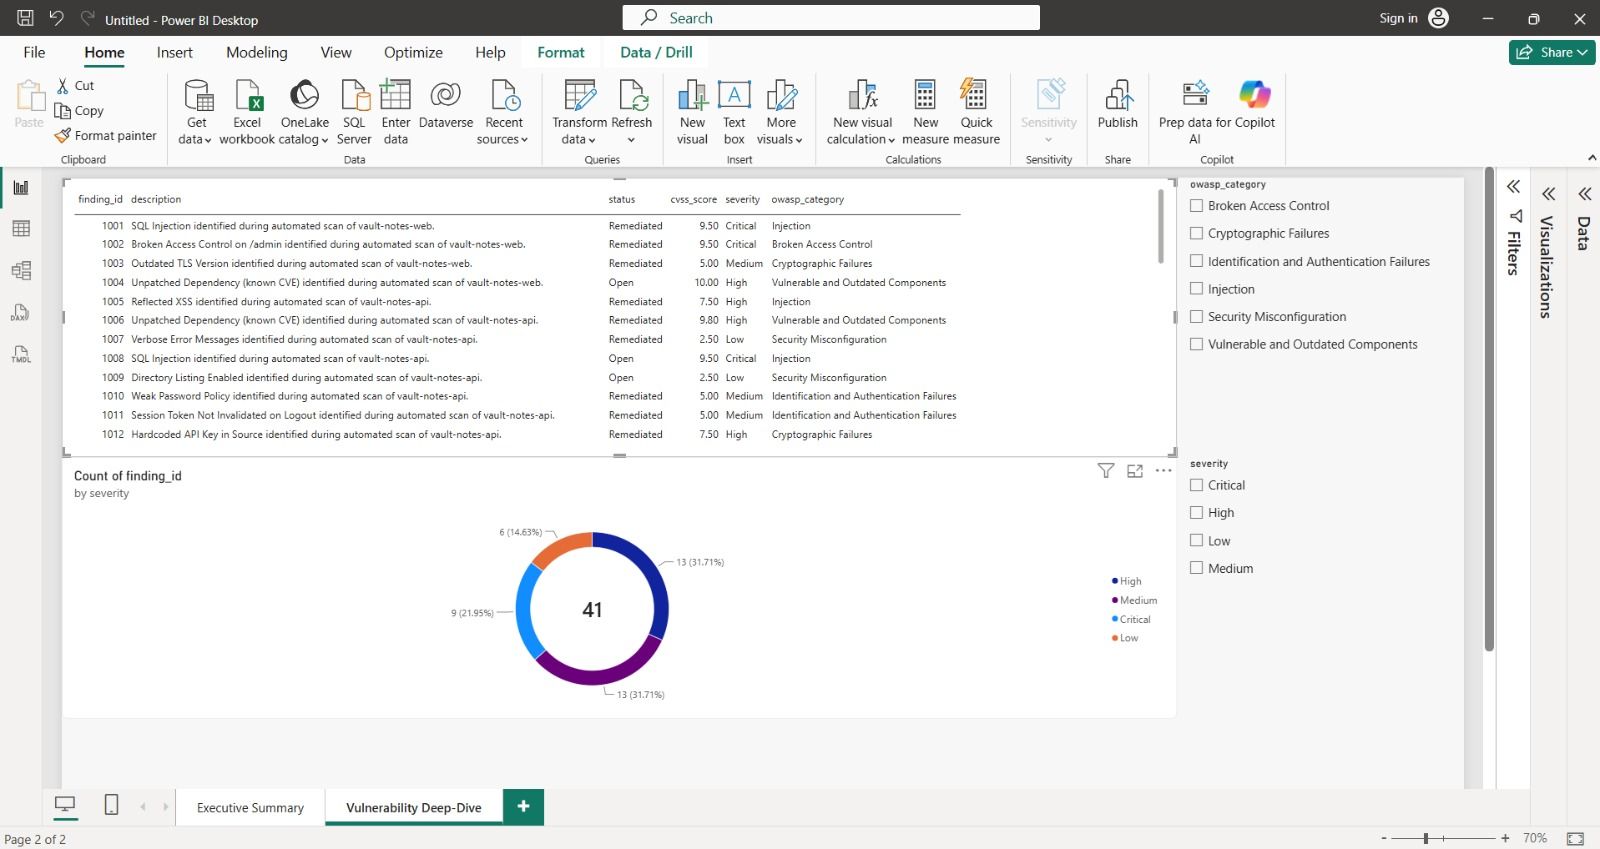

What the dashboard file says about the page in this screenshot:
{"tool":"powerbi","page":{"name":"Vulnerability Deep-Dive","canvas":[1920,1080],"ordinal":1},"visuals":[{"type":"tableEx","fields":{"Values":["fact_vulnerabilities.finding_id","fact_vulnerabilities.description","fact_vulnerabilities.status","fact_vulnerabilities.cvss_score","dim_severity.severity","dim_owasp_category.owasp_category"]},"box":[0,0,1527.1,382.9],"z":0},{"type":"donutChart","fields":{"Category":["dim_severity.severity"],"Y":["CountNonNull(fact_vulnerabilities.finding_id)"]},"box":[0,382.9,1527,358],"z":1},{"type":"slicer","fields":{"Values":["dim_severity.severity"]},"box":[1537.1,382.9,345.7,358.6],"z":2},{"type":"slicer","fields":{"Values":["dim_owasp_category.owasp_category"]},"box":[1537.1,0,382.9,382.9],"z":3}]}

Visuals, with their boxes on the page's 1920x1080 design canvas (x1, y1, x2, y2). These are canvas units, not pixel positions in the 1600x849 screenshot, which may show the page scaled, cropped or inside an application window:
tableEx - fact_vulnerabilities.finding_id x fact_vulnerabilities.description: Rect(0, 0, 1527, 383)
donutChart - dim_severity.severity x CountNonNull(fact_vulnerabilities.finding_id): Rect(0, 383, 1527, 741)
slicer - dim_severity.severity: Rect(1537, 383, 1883, 742)
slicer - dim_owasp_category.owasp_category: Rect(1537, 0, 1920, 383)
